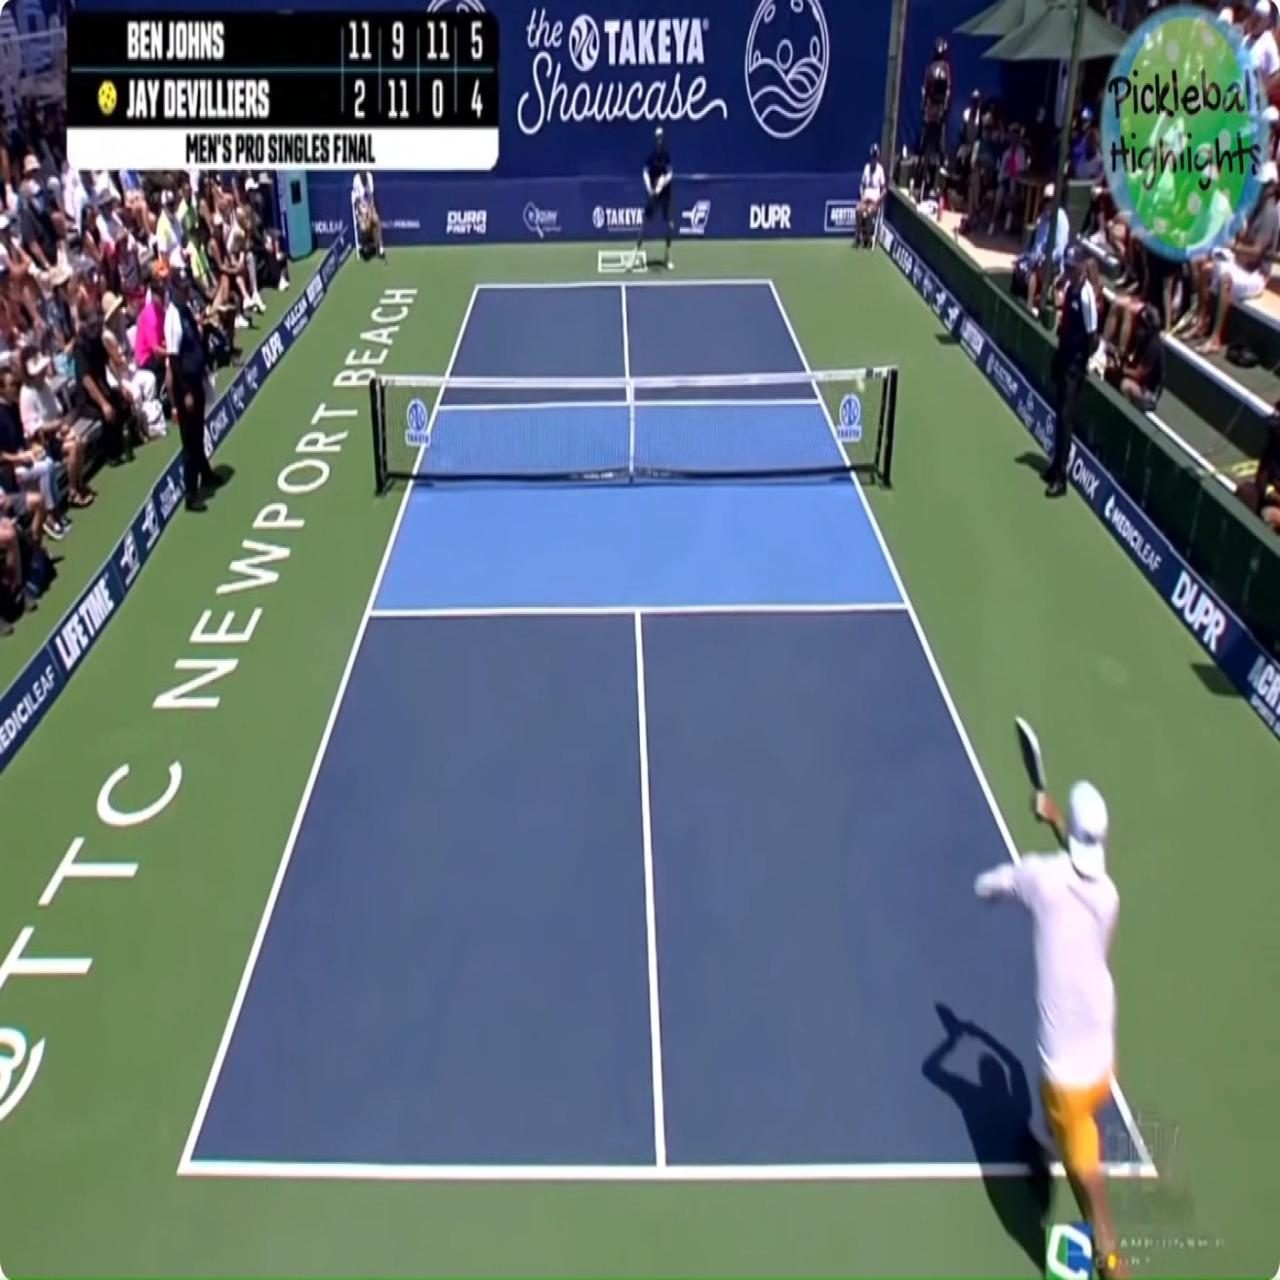pickleball: (856, 376, 865, 395)
